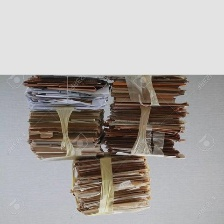news_paper: (20, 75, 112, 166), (106, 72, 193, 164), (65, 149, 159, 220)
